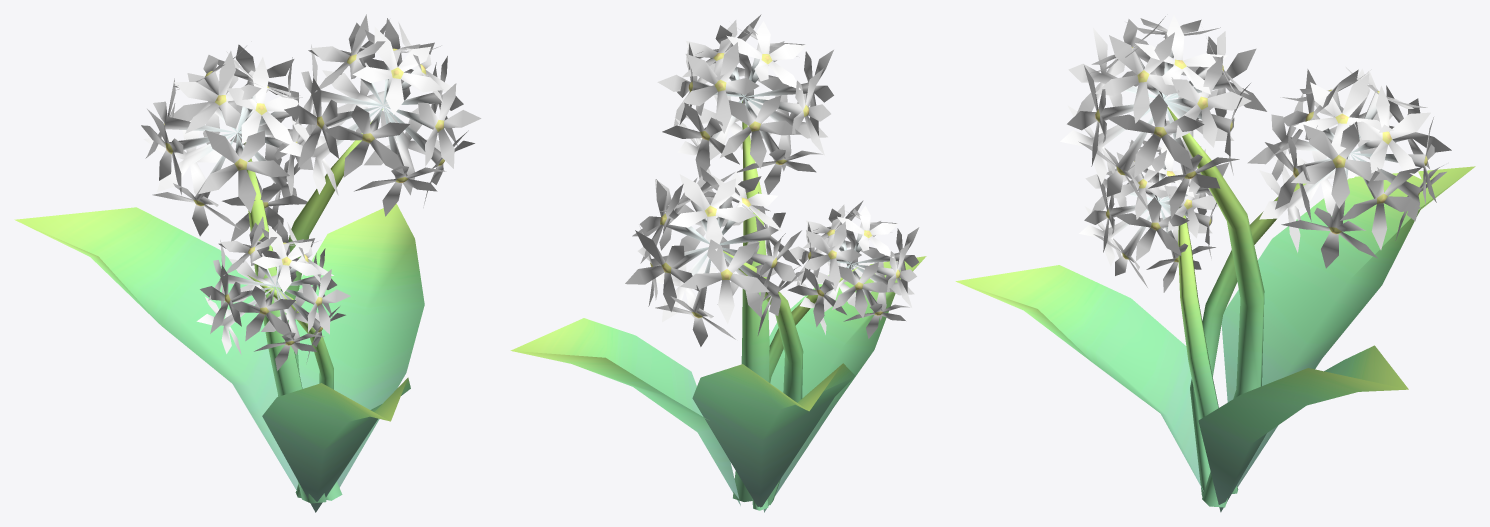
File: Flower.030_Base_Material_0.fbx
3 views of the same model, side by side, from view 1: azimuth 30°, elevation 25°; view 2: azimuth 150°, elevation 25°; view 3: azimuth 270°, elevation 25° (orthographic). The views are drawn at different scales.
Parts seen in each view (by area): view 1: Flower.030_Base_Material_0_export; view 2: Flower.030_Base_Material_0_export; view 3: Flower.030_Base_Material_0_export.
Boxes of the visible parts, box(x1,y1,x2,y2) form: Flower.030_Base_Material_0_export: box(14, 14, 481, 512); Flower.030_Base_Material_0_export: box(510, 14, 926, 512); Flower.030_Base_Material_0_export: box(955, 14, 1475, 512).
Bounding box in the file's own units: 1.92 × 2.58 × 2.38.
